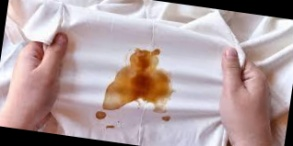coffee: (94, 43, 177, 130)
